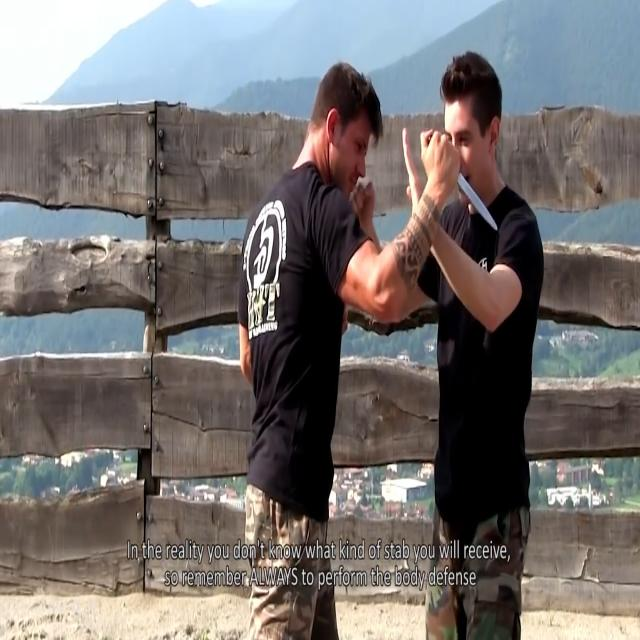knife: (456, 176, 501, 239)
